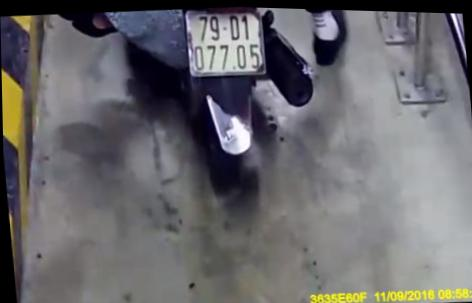LP: (183, 4, 266, 79)
